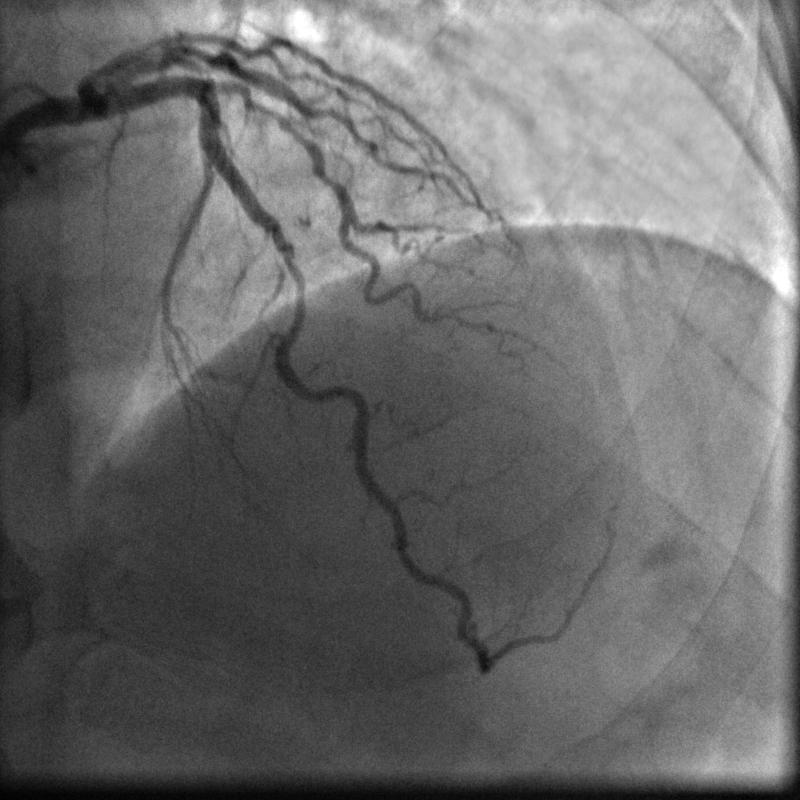Stenosis: (275, 245, 311, 329)
